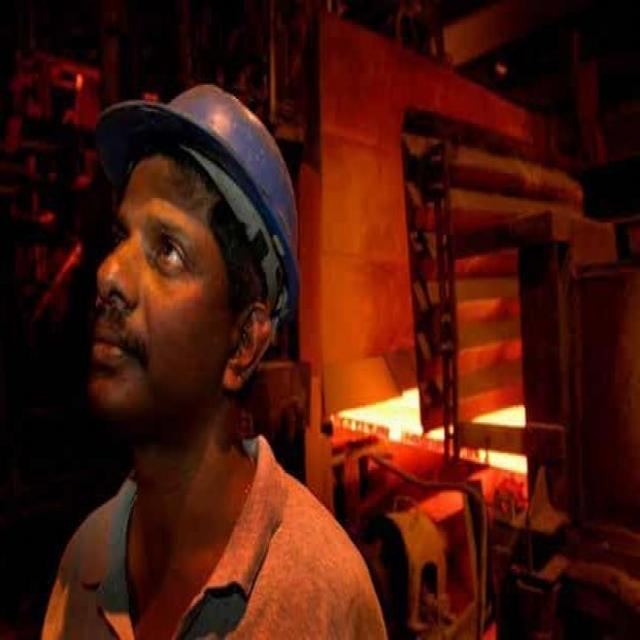Reflective-Jacket: (39, 425, 396, 640)
Safety-Helmet: (87, 68, 314, 317)
